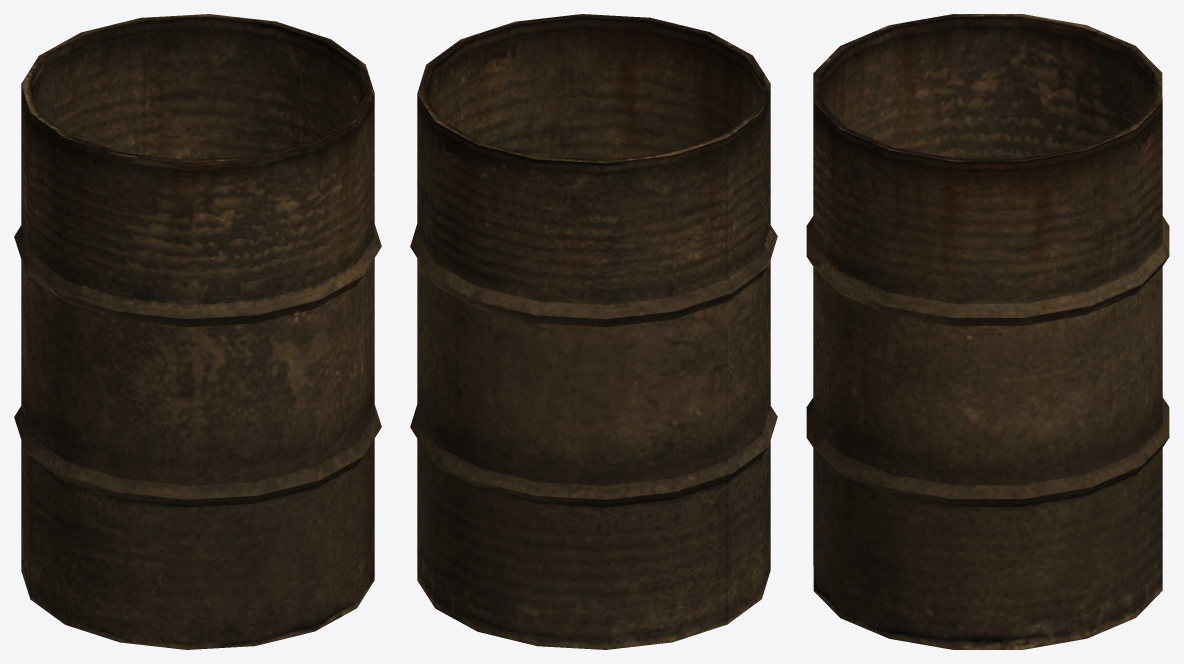
Rendered from metal_barrel_hr_4.dae.
3 views of the same model, side by side, from view 1: azimuth 30°, elevation 25°; view 2: azimuth 150°, elevation 25°; view 3: azimuth 270°, elevation 25° (orthographic).
Parts seen in each view (by area): view 1: metal_barrel_hr_4; view 2: metal_barrel_hr_4; view 3: metal_barrel_hr_4.
Part boxes in pixels (bbox=[...]): metal_barrel_hr_4: bbox=[14, 14, 381, 649]; metal_barrel_hr_4: bbox=[410, 14, 777, 649]; metal_barrel_hr_4: bbox=[806, 14, 1169, 649].
Size of the model in its own units: 0.6735 by 0.6735 by 1.
1 material, 1 textured.
